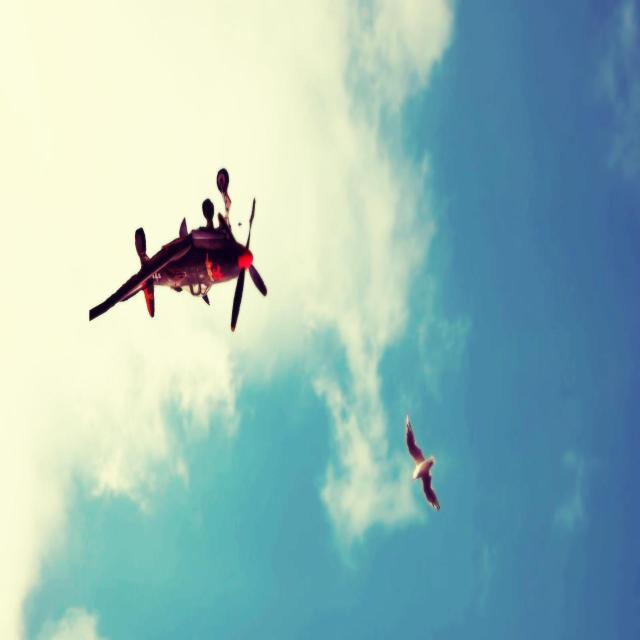airplane: (89, 167, 268, 331)
